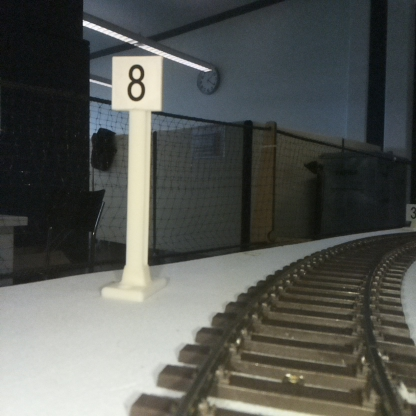white-info-8: (112, 56, 161, 298)
